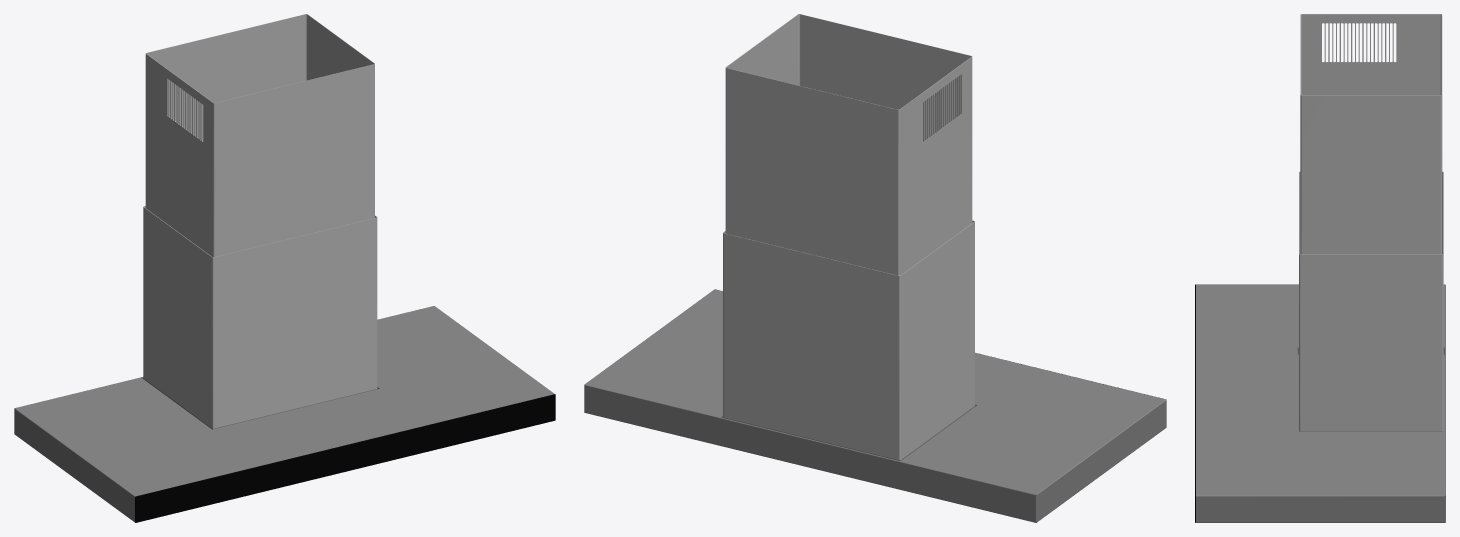
The model's file is HCIN2.glb.
3 views of the same model, side by side, from view 1: azimuth 30°, elevation 25°; view 2: azimuth 150°, elevation 25°; view 3: azimuth 270°, elevation 25° (orthographic). The views are drawn at different scales.
Visible parts, largest first — view 1: HCIN2; view 2: HCIN2; view 3: HCIN2.
Part boxes in pixels (box(x1,y1,x2,y2)): HCIN2: box(14, 14, 555, 522); HCIN2: box(584, 14, 1166, 522); HCIN2: box(1195, 14, 1445, 522).
Size of the model in its own units: 0.7624 by 0.6084 by 0.3812.
Materials: 6 (2 with a texture image).
